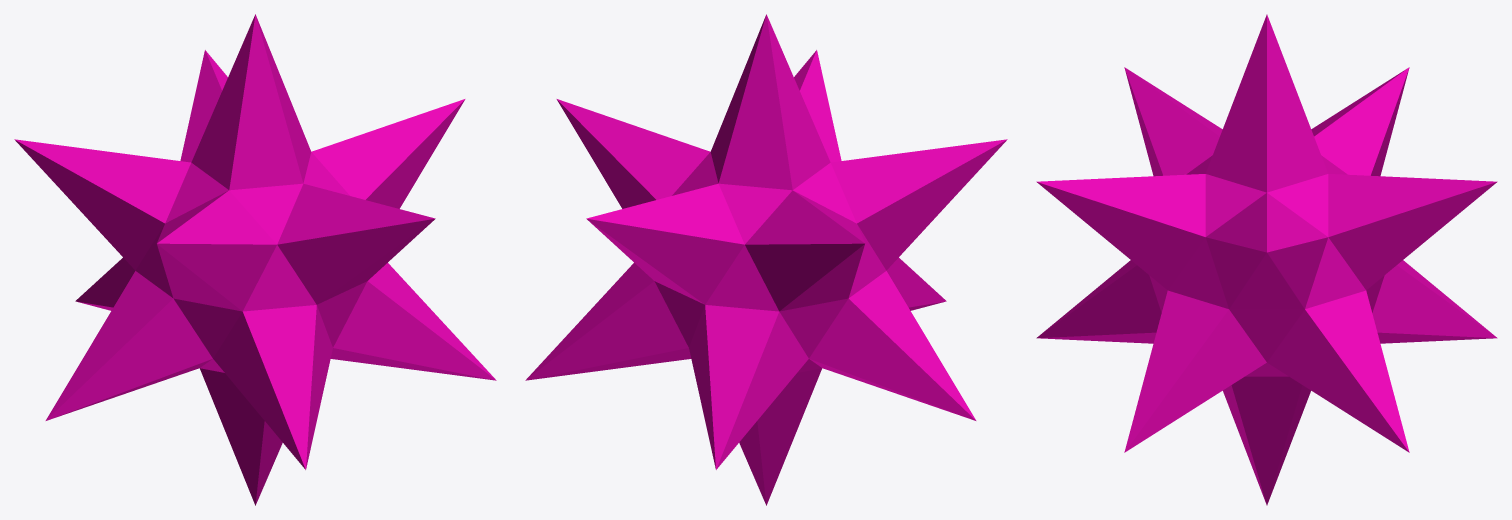
The model's file is star.glb.
3 renders of one model, left to right at view 1: azimuth 30°, elevation 25°; view 2: azimuth 150°, elevation 25°; view 3: azimuth 270°, elevation 25°, orthographic.
Visible parts, largest first — view 1: Icosphere; view 2: Icosphere; view 3: Icosphere.
Boxes of the visible parts, x1,y1,x2,y2 form: Icosphere: [14, 14, 496, 505]; Icosphere: [525, 14, 1007, 505]; Icosphere: [1036, 14, 1497, 505].
Bounding box in the file's own units: 3.17 × 3.54 × 3.02.
